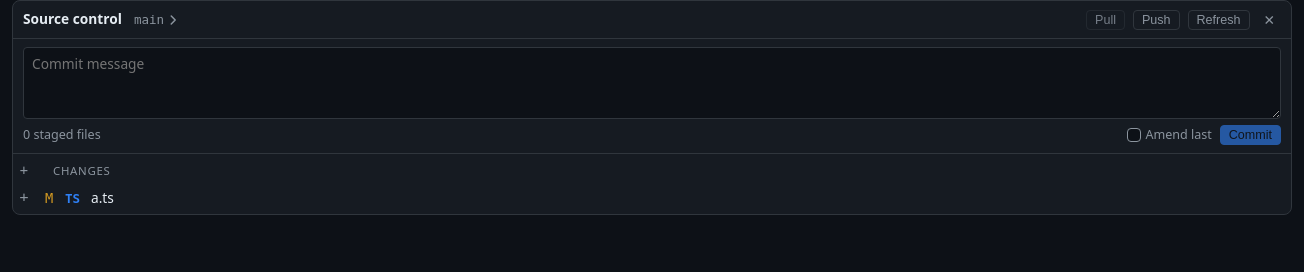
opening a file to its diff › closes the row when it is clicked again
The width and height of the screenshot is (1304, 272).
Click the button "M TS a.ts". click: (49, 198)
box: top-left (35, 185), bottom-right (1291, 210)
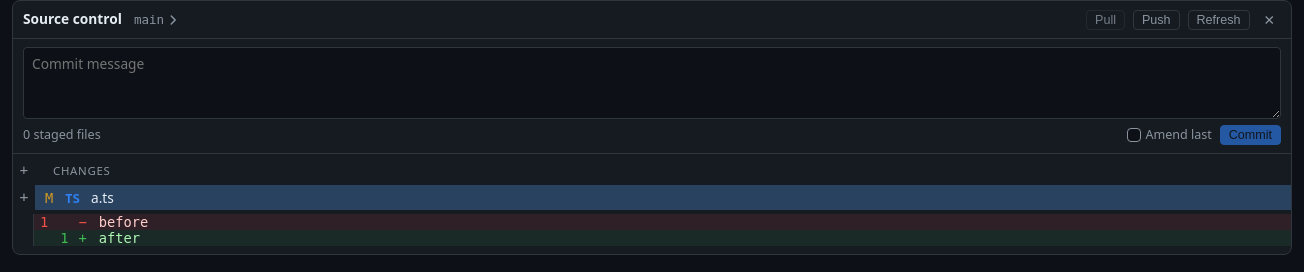
Click the button "M TS a.ts". click: (49, 198)
box: top-left (35, 185), bottom-right (1291, 210)
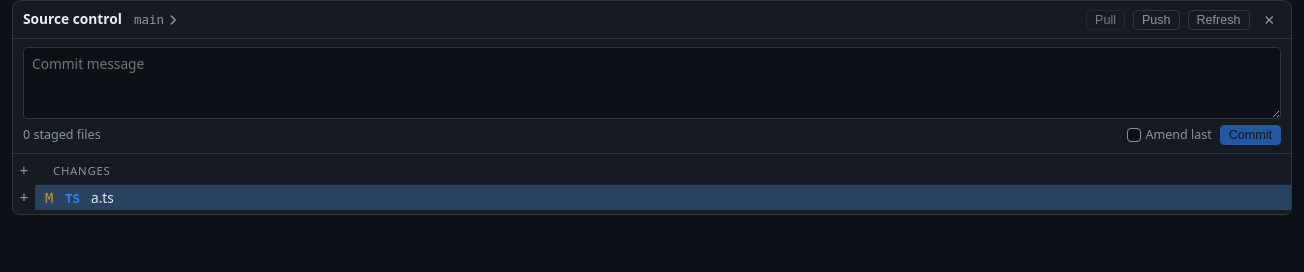
Check: the element with class "tool-diff" is gone
